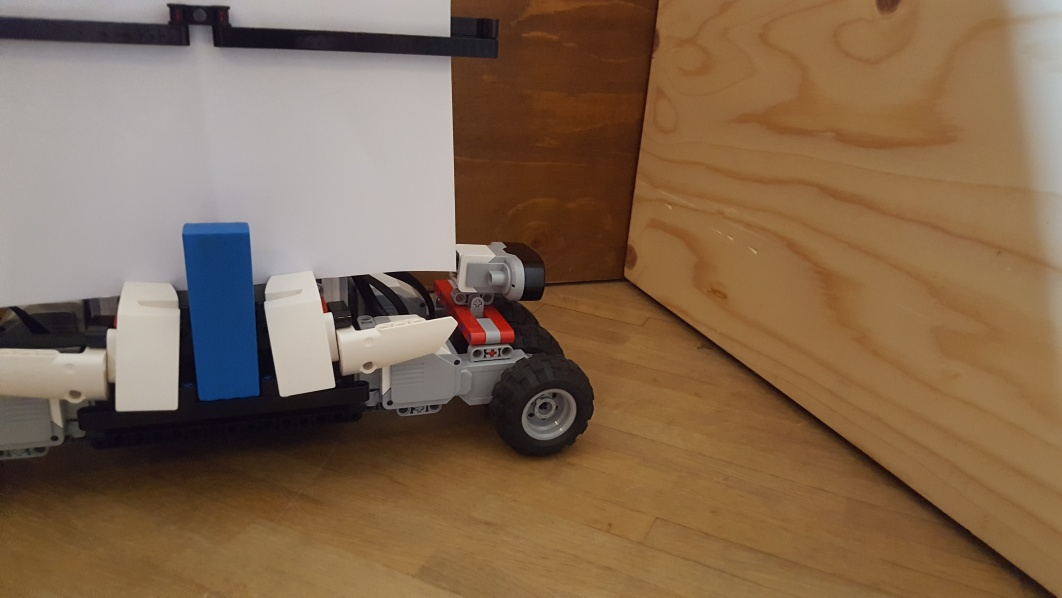beam: (182, 219, 267, 402)
